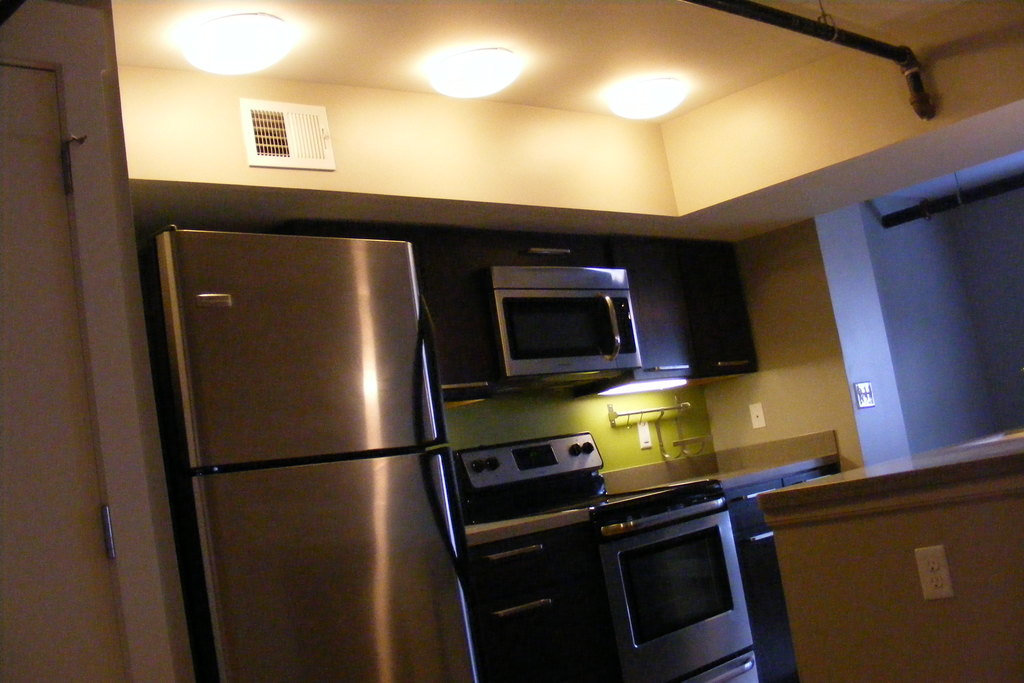cabinet door: (426, 239, 492, 401), (484, 592, 602, 673), (631, 256, 684, 378), (686, 254, 742, 367), (478, 533, 585, 578), (486, 231, 609, 264)
door: (2, 65, 95, 671)
handle: (406, 298, 452, 434), (427, 445, 473, 559), (598, 291, 631, 369), (481, 538, 553, 570), (491, 599, 558, 628), (521, 242, 578, 261), (446, 377, 489, 399), (654, 363, 694, 378), (713, 358, 750, 370)
refrigerator door: (168, 234, 439, 443), (205, 477, 470, 683)
